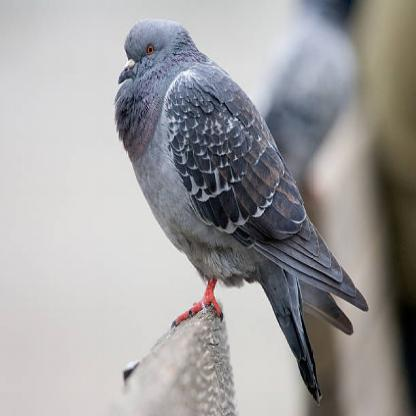Rock Pigeon: (117, 15, 346, 371)
